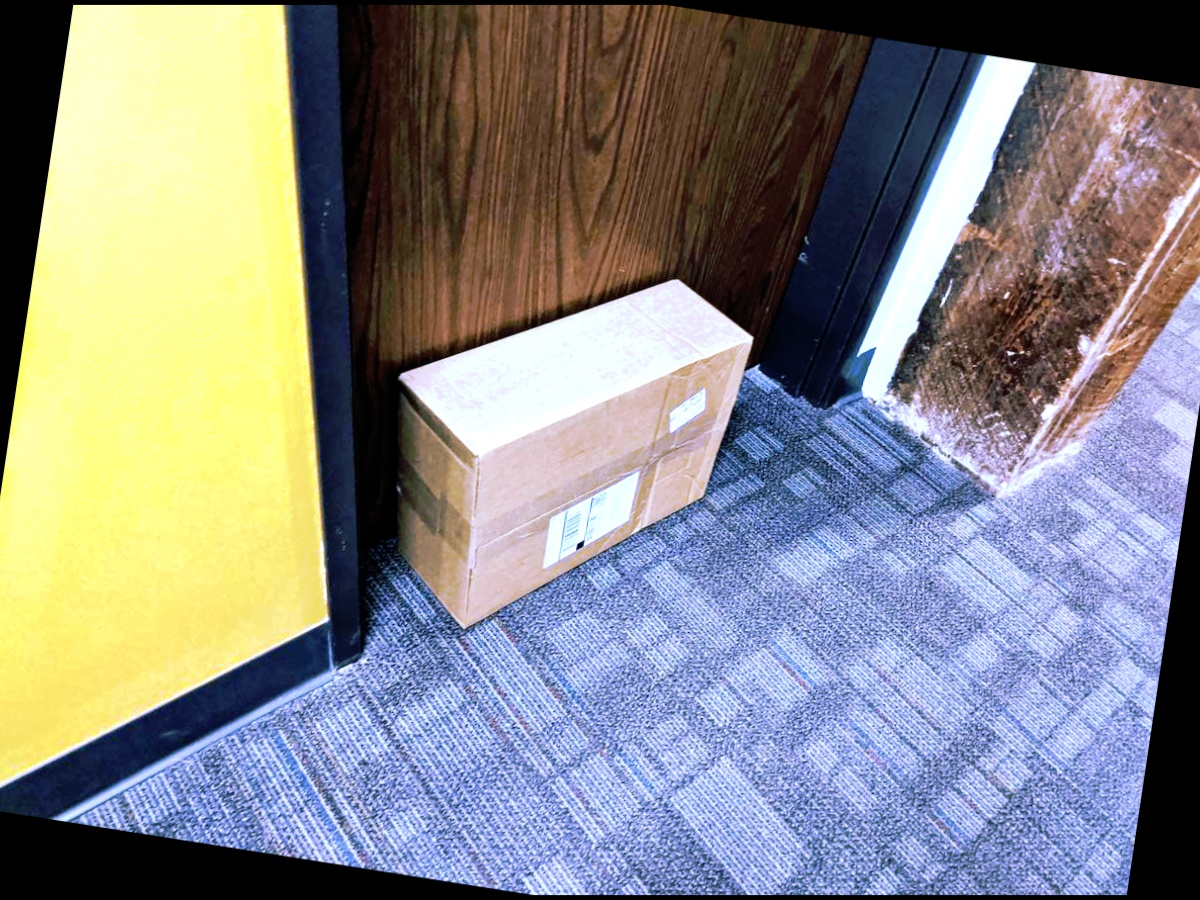good-parcel: (352, 268, 774, 632)
